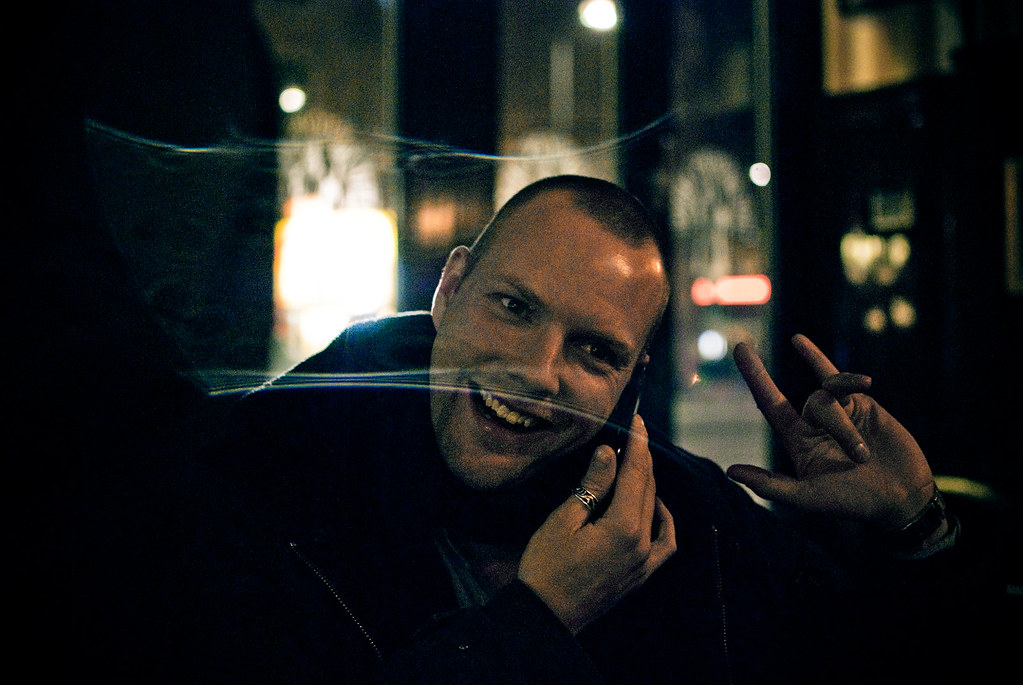phone: (597, 368, 692, 558)
talk: (410, 273, 708, 613)
